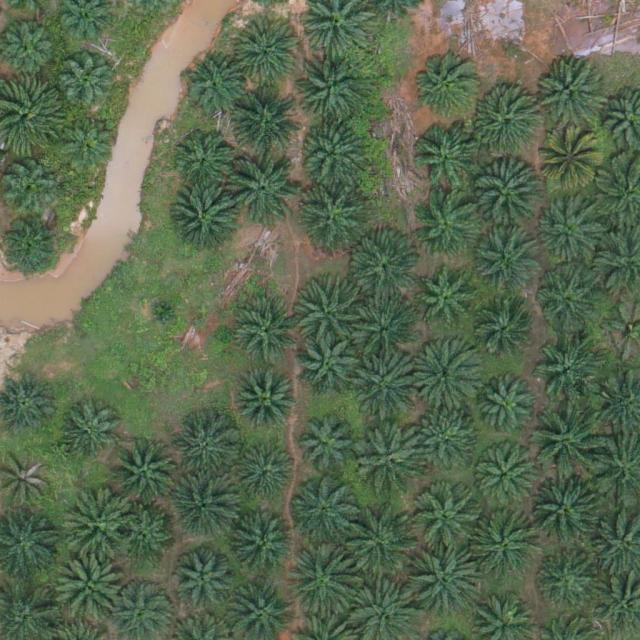Healthy: (530, 475, 601, 546), (469, 510, 540, 581), (301, 116, 372, 187), (169, 472, 240, 543), (295, 57, 366, 128), (534, 332, 604, 403), (412, 125, 482, 196), (414, 191, 484, 262), (410, 340, 480, 411), (413, 486, 483, 557), (353, 350, 423, 421), (356, 423, 427, 493), (345, 506, 415, 577), (285, 548, 355, 619), (289, 475, 359, 546), (296, 180, 366, 251), (169, 186, 239, 257), (110, 437, 180, 508), (62, 489, 132, 560), (54, 550, 124, 621), (535, 60, 605, 131), (412, 49, 482, 120), (231, 85, 301, 156), (232, 17, 302, 88), (530, 408, 600, 478), (473, 162, 543, 232), (414, 547, 484, 617), (352, 238, 422, 308), (296, 273, 366, 343), (226, 154, 296, 224), (466, 88, 536, 158), (534, 199, 597, 262), (535, 269, 598, 332), (297, 334, 360, 397), (57, 401, 120, 464), (538, 552, 600, 615), (477, 234, 539, 297), (472, 305, 534, 368), (474, 447, 536, 510), (415, 269, 477, 332), (297, 416, 359, 479), (235, 304, 298, 366), (236, 444, 298, 507), (173, 130, 235, 193), (175, 419, 237, 482), (173, 554, 235, 617), (185, 55, 247, 118), (416, 414, 478, 476), (354, 299, 416, 361), (236, 372, 298, 434), (234, 517, 296, 579), (480, 380, 535, 436), (118, 509, 173, 564), (62, 116, 117, 171), (60, 58, 115, 113)
Small: (147, 296, 178, 328)
Yellow: (538, 132, 600, 195)
